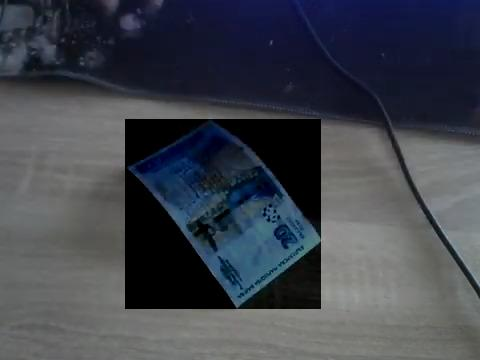20leva: (125, 119, 321, 309)
